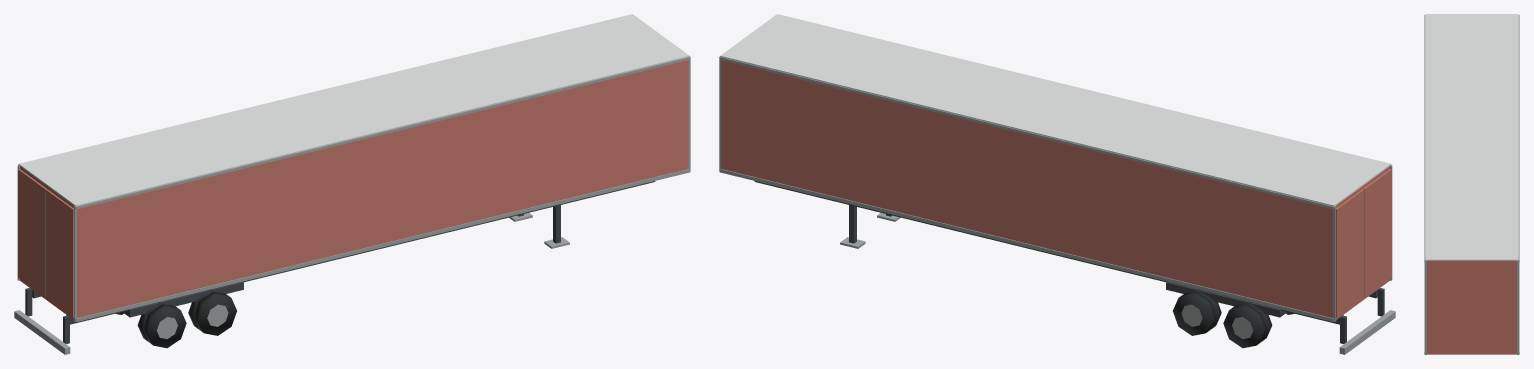
The model's file is SM_MPR3_Trailer_Coral_LOD2.fbx.
3 views of the same model, side by side, from view 1: azimuth 30°, elevation 25°; view 2: azimuth 150°, elevation 25°; view 3: azimuth 270°, elevation 25° (orthographic). The views are drawn at different scales.
Visible parts, largest first — view 1: SM_MPR3_Trailer_Coral_LOD2; view 2: SM_MPR3_Trailer_Coral_LOD2; view 3: SM_MPR3_Trailer_Coral_LOD2.
Boxes of the visible parts, bbox=[...] form: SM_MPR3_Trailer_Coral_LOD2: bbox=[14, 14, 690, 354]; SM_MPR3_Trailer_Coral_LOD2: bbox=[719, 14, 1395, 354]; SM_MPR3_Trailer_Coral_LOD2: bbox=[1424, 14, 1519, 354].
Bounding box in the file's own units: 1638 × 264 × 417.
